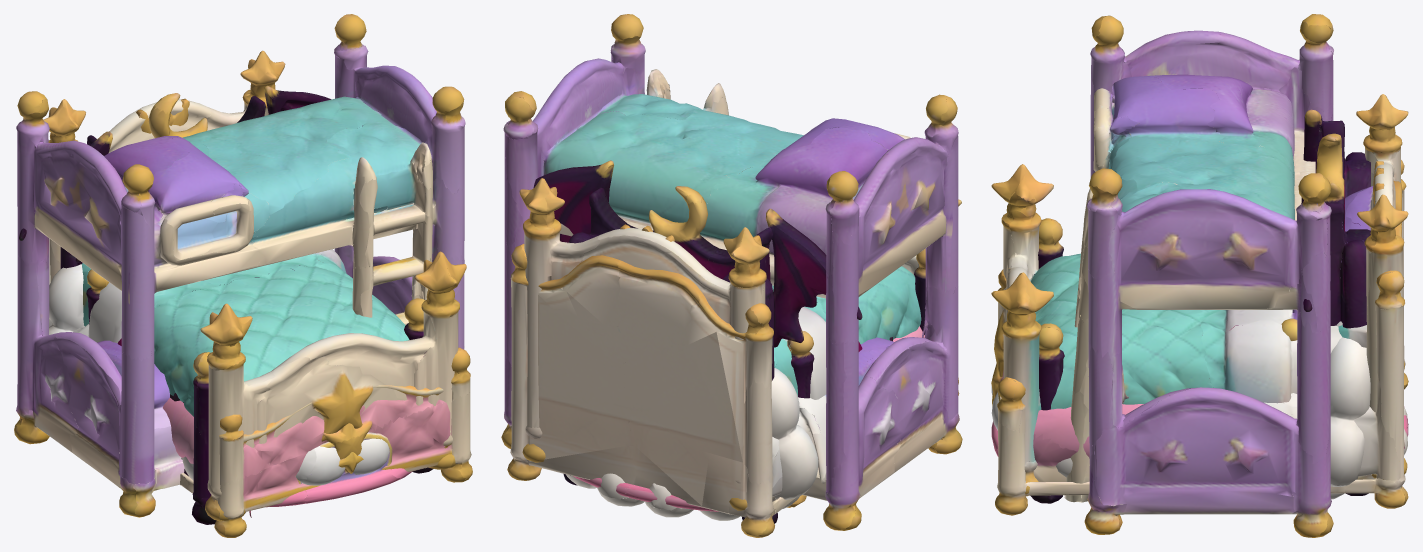
File: store_items_sheet_02_mobile.glb
3 renders of one model, left to right at view 1: azimuth 30°, elevation 25°; view 2: azimuth 150°, elevation 25°; view 3: azimuth 270°, elevation 25°, orthographic. The views are drawn at different scales.
Visible parts, largest first — view 1: bed_bunk, bed_single, bed_king, bed_coffin, bed_cloud, bed_race; view 2: bed_bunk, bed_king, bed_single, bed_coffin, bed_cloud, bed_race; view 3: bed_bunk, bed_single, bed_king, bed_coffin, bed_cloud.
Boxes of the visible parts, <box> form: bed_bunk: <box>14,14,465,517</box>; bed_single: <box>43,50,466,521</box>; bed_king: <box>49,98,472,537</box>; bed_coffin: <box>19,85,433,524</box>; bed_cloud: <box>49,264,389,485</box>; bed_race: <box>249,432,412,517</box>; bed_bunk: <box>501,14,962,530</box>; bed_king: <box>507,224,959,537</box>; bed_single: <box>519,178,961,510</box>; bed_coffin: <box>533,160,925,523</box>; bed_cloud: <box>566,368,818,520</box>; bed_race: <box>573,476,718,511</box>; bed_bunk: <box>1064,14,1333,537</box>; bed_single: <box>991,94,1408,496</box>; bed_king: <box>991,160,1408,515</box>; bed_coffin: <box>1030,109,1370,503</box>; bed_cloud: <box>991,321,1408,499</box>.
Size of the model in its own units: 1.55 by 1.48 by 1.55.
1 material, 1 textured.
